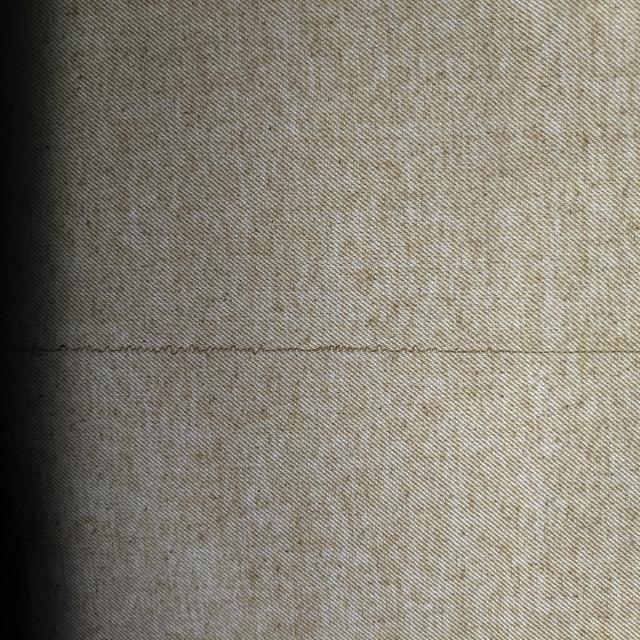Line: (0, 340, 640, 355)
